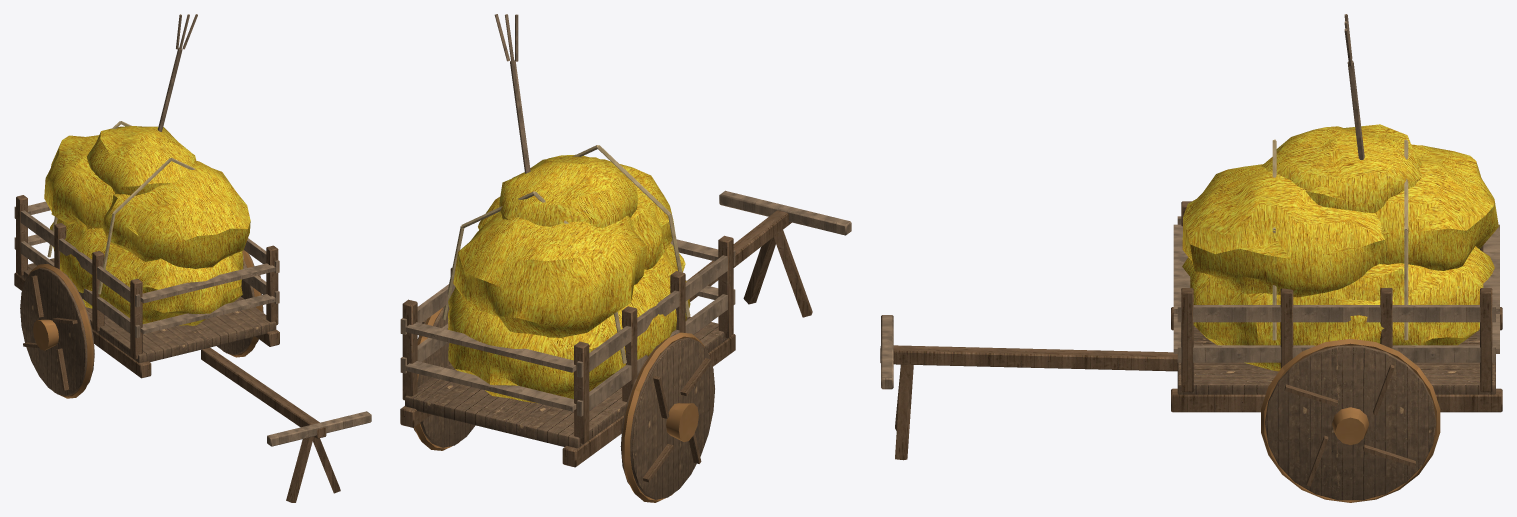
File: country_cart_hay.glb
3 views of the same model, side by side, from view 1: azimuth 30°, elevation 25°; view 2: azimuth 150°, elevation 25°; view 3: azimuth 270°, elevation 25° (orthographic). The views are drawn at different scales.
Visible parts, largest first — view 1: hay.004, plank, wood_dark, wood, bronze, rope; view 2: hay.004, plank, wood, wood_dark, bronze, rope; view 3: hay.004, plank, wood_dark, wood, bronze, rope.
Part boxes in pixels (left/top/right/bottom): hay.004: left=44, top=126, right=250, bottom=325; plank: left=18, top=253, right=276, bottom=396; wood_dark: left=14, top=195, right=340, bottom=502; wood: left=14, top=14, right=371, bottom=446; bronze: left=28, top=250, right=262, bottom=398; rope: left=47, top=121, right=243, bottom=294; hay.004: left=448, top=154, right=690, bottom=403; plank: left=405, top=306, right=730, bottom=499; wood: left=400, top=14, right=851, bottom=416; wood_dark: left=400, top=210, right=812, bottom=482; bronze: left=414, top=307, right=704, bottom=502; rope: left=442, top=145, right=690, bottom=363; hay.004: left=1182, top=124, right=1498, bottom=371; plank: left=1177, top=325, right=1495, bottom=500; wood_dark: left=880, top=201, right=1502, bottom=486; wood: left=881, top=14, right=1499, bottom=389; bronze: left=1261, top=338, right=1440, bottom=502; rope: left=1272, top=139, right=1408, bottom=340.
Size of the model in its own units: 2.2 by 3.66 by 4.5.
6 materials, 6 textured.
